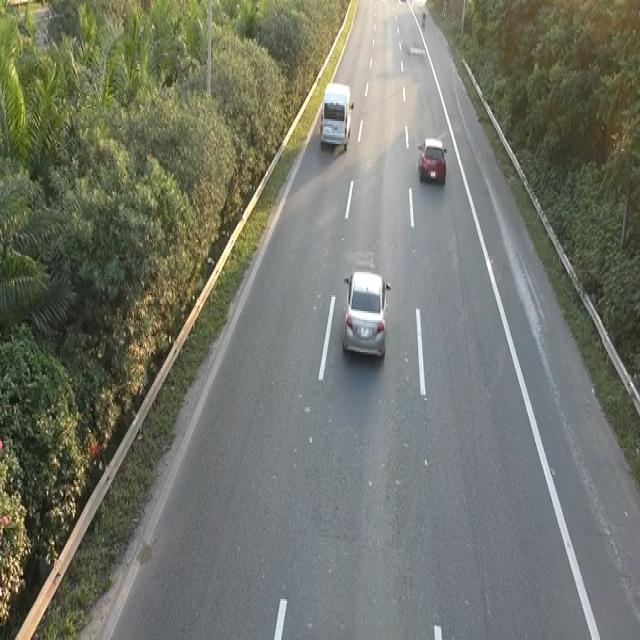bus: (340, 265, 393, 368), (416, 133, 447, 185)
jeep: (318, 80, 355, 153)
